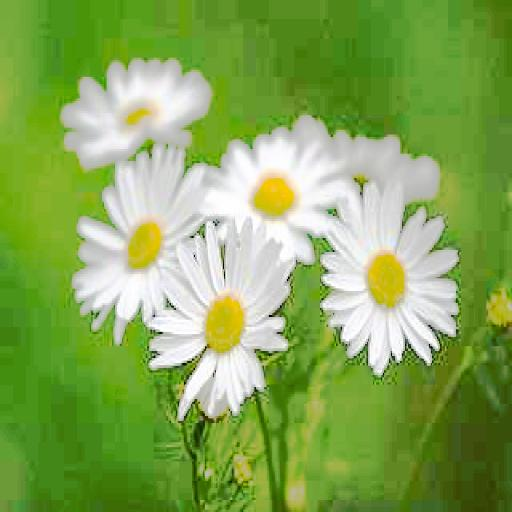daisy: (155, 228, 288, 404), (328, 190, 448, 363), (80, 151, 194, 320), (211, 125, 330, 260), (62, 62, 208, 154)
